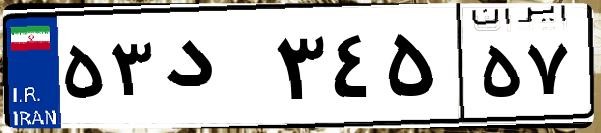3: (270, 28, 330, 110), (110, 28, 158, 98)
4: (330, 28, 385, 110)
5: (385, 28, 445, 110), (57, 26, 110, 100), (475, 38, 525, 113)
7: (525, 38, 570, 115)
د: (158, 20, 270, 120)
